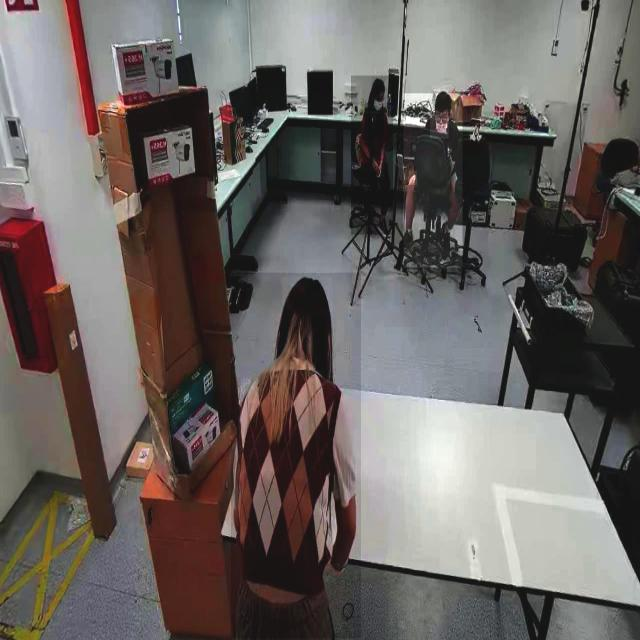face_mask: (430, 115, 449, 138), (372, 92, 384, 120)
hand_noglove: (376, 161, 384, 179), (408, 170, 417, 186), (372, 158, 380, 174)
head_nohelmet: (282, 277, 332, 319), (435, 91, 453, 109), (371, 77, 385, 91)
person: (231, 273, 361, 639), (403, 94, 463, 268), (351, 76, 393, 236)
shoes: (399, 224, 415, 251)
